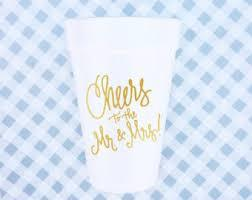Plastic cup: (56, 13, 185, 198)
